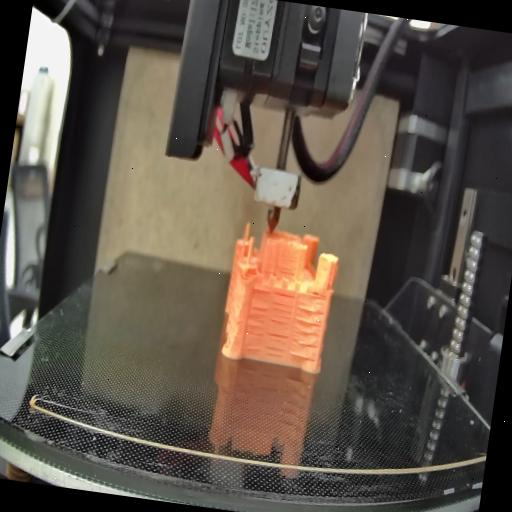cracks: (288, 306, 326, 360), (266, 292, 295, 356), (242, 302, 270, 358), (248, 282, 274, 298), (278, 264, 298, 276), (308, 288, 324, 298)
